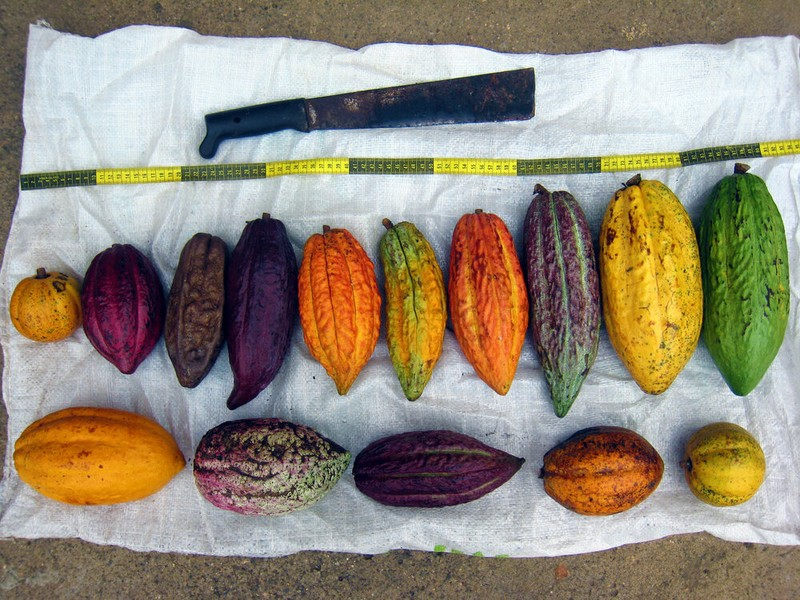Cacaopod: (599, 173, 704, 397), (698, 163, 789, 396), (526, 183, 602, 420), (12, 406, 189, 506), (194, 417, 354, 515), (298, 223, 383, 398), (449, 208, 528, 395), (226, 212, 300, 409), (352, 430, 527, 510), (381, 216, 447, 402), (80, 243, 165, 377), (164, 231, 226, 390)
